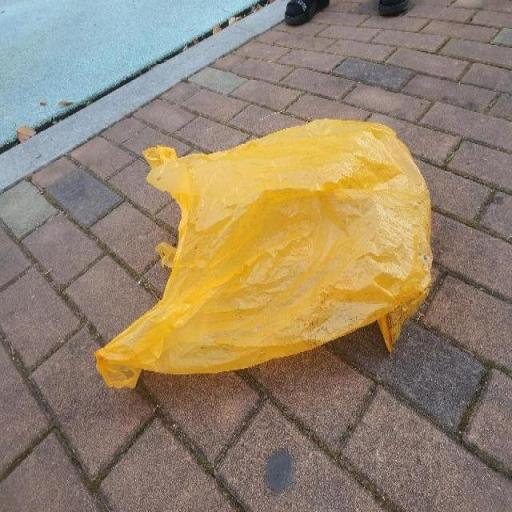plastic-bag: (92, 118, 438, 391)
